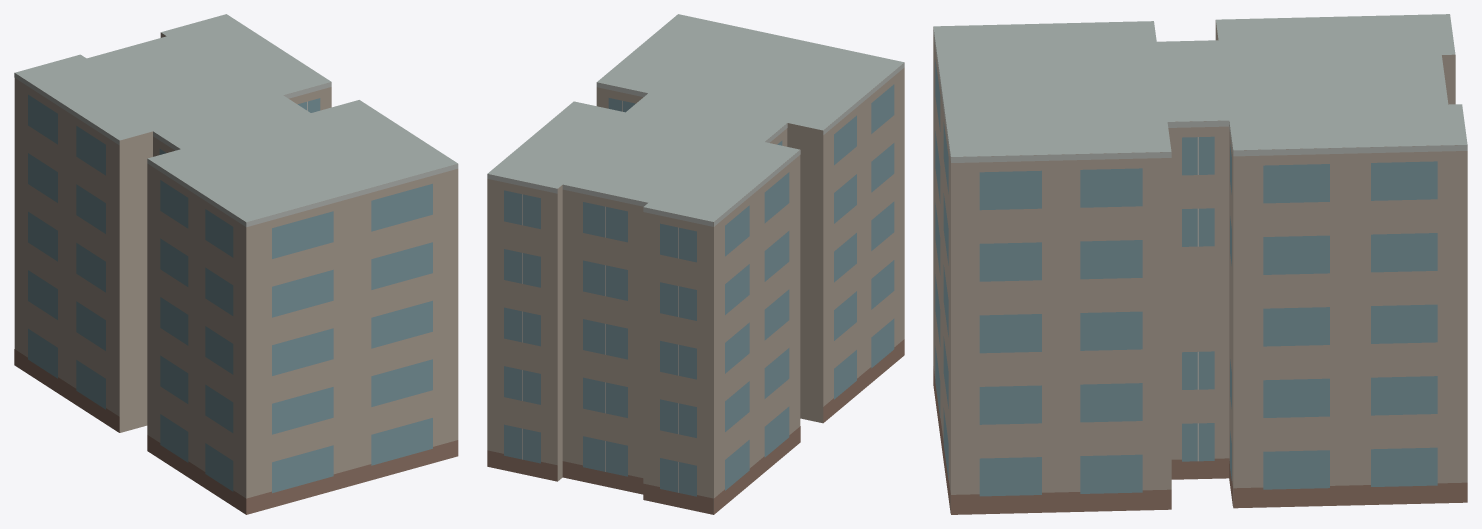
Rendered from survey-upis-32659115.glb.
3 views of the same model, side by side, from view 1: azimuth 30°, elevation 25°; view 2: azimuth 150°, elevation 25°; view 3: azimuth 270°, elevation 25° (orthographic). The views are drawn at different scales.
Visible parts, largest first — view 1: survey-upis-32659115.tmp; view 2: survey-upis-32659115.tmp; view 3: survey-upis-32659115.tmp.
Part boxes in pixels (x1,y1,x2,y2): survey-upis-32659115.tmp: (14, 14, 458, 514); survey-upis-32659115.tmp: (487, 14, 904, 514); survey-upis-32659115.tmp: (933, 14, 1467, 514).
Size of the model in its own units: 12.36 by 14.4 by 19.5.
